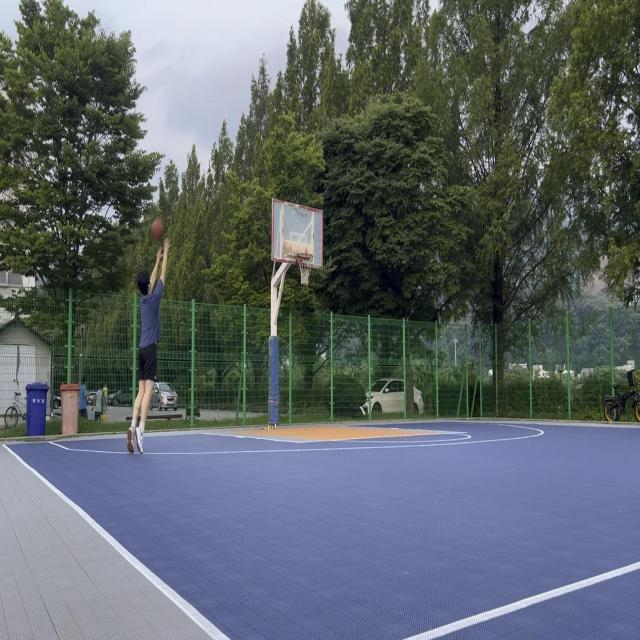Ball: (151, 216, 166, 242)
